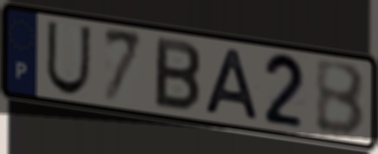2: (261, 49, 310, 137)
7: (102, 25, 144, 108)
A: (200, 46, 262, 124)
B: (313, 59, 367, 140), (152, 34, 203, 115)
U: (43, 18, 94, 97)
